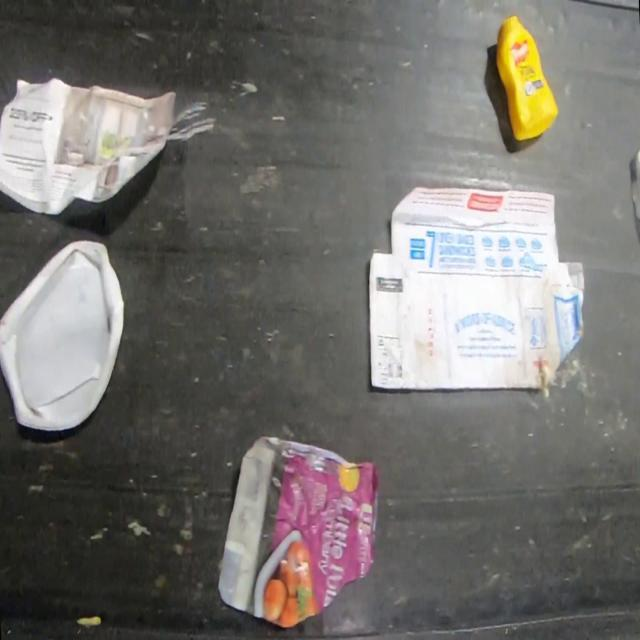cardboard: (368, 184, 586, 388)
rigid_plastic: (0, 237, 124, 431), (495, 14, 558, 140)
soft_plastic: (218, 432, 380, 627)
